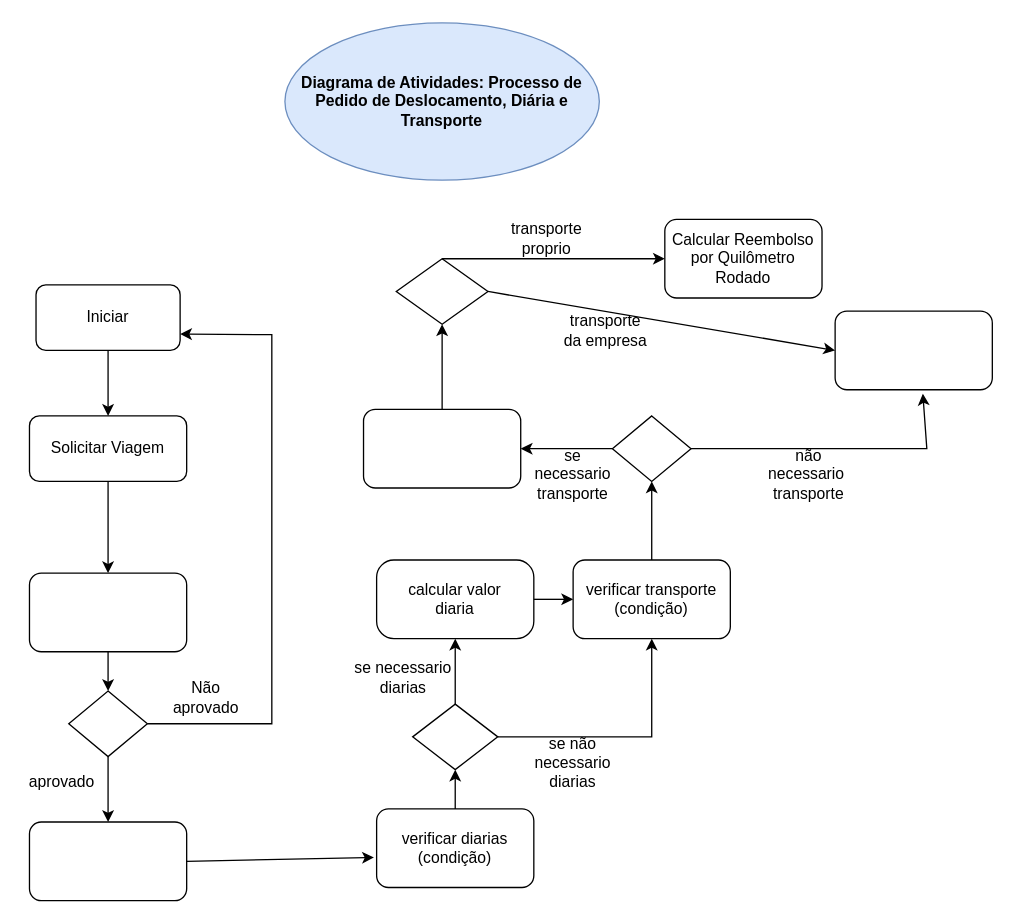
The diagram is 1015 pixels wide and 924 high, and some of its shapes have lost their labels. The centre of each missing label's shape, as x and y in pixels:
"Aprovação Viagem (condição)" goes at [107,612].
"escolher tipo traansporte (condição)" goes at [441,448].
"Finalizar" goes at [913,350].
"Solicitar Diaria e/ou transporte" goes at [107,861].
